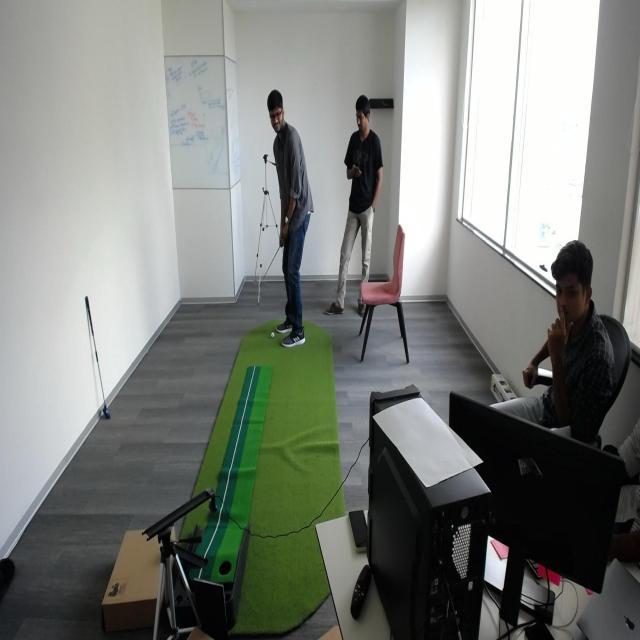ClubHead: (96, 400, 112, 426), (252, 276, 262, 293)
GolfBall: (270, 332, 276, 340)
